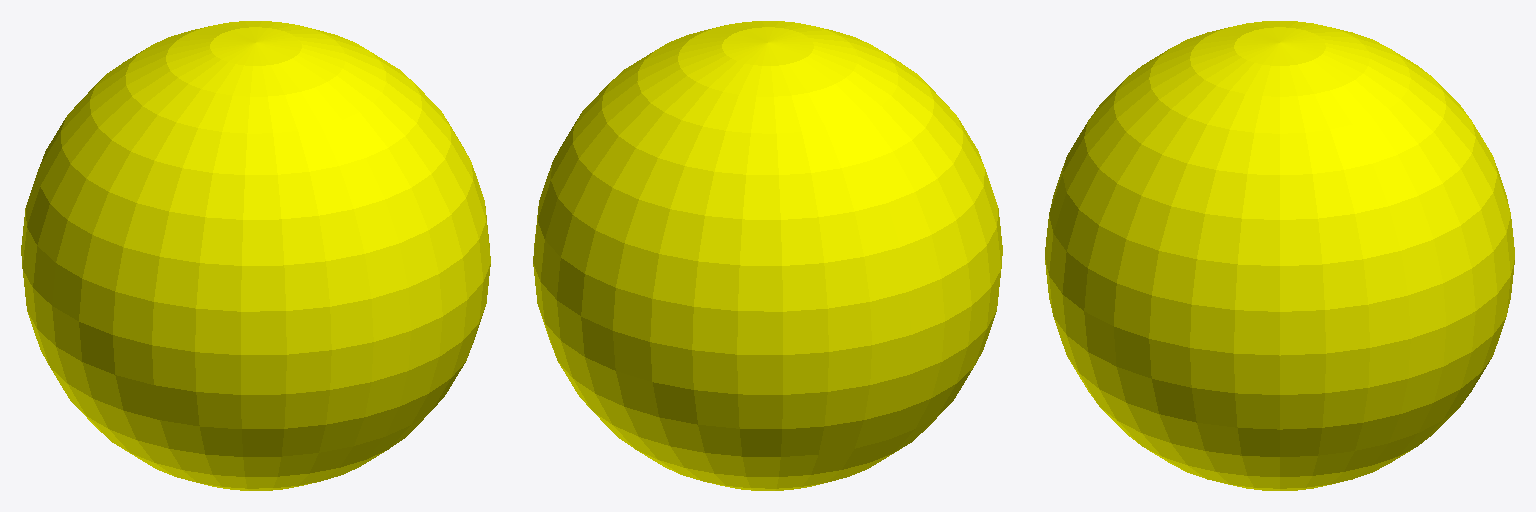
The picture shows the model from 3 angles: view 1: azimuth 30°, elevation 25°; view 2: azimuth 150°, elevation 25°; view 3: azimuth 270°, elevation 25°; orthographic projection.
Visible parts, largest first — view 1: 球; view 2: 球; view 3: 球.
Boxes of the visible parts, <box> form: 球: <box>21,21,490,490</box>; 球: <box>533,21,1002,490</box>; 球: <box>1045,21,1514,490</box>.
Size of the model in its own units: 2 by 2 by 2.
Materials: 1 (1 with a texture image).